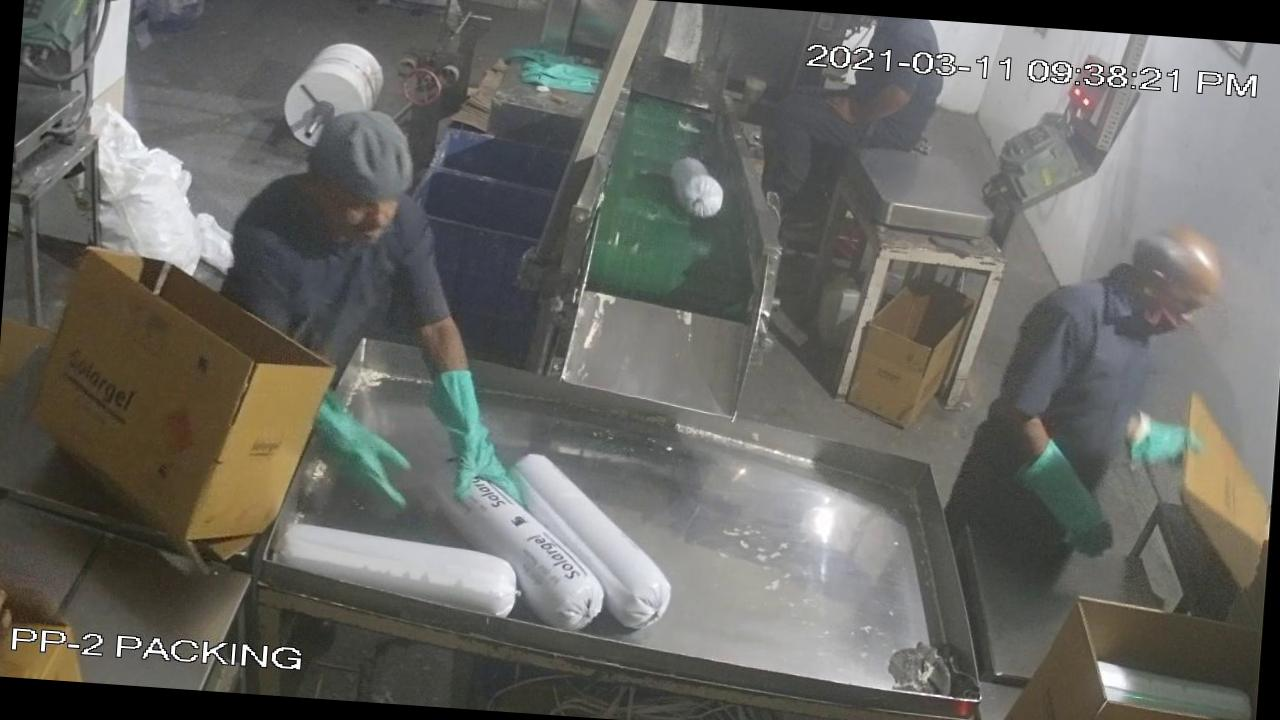Gloves: (1002, 421, 1142, 571), (414, 351, 548, 499)
No-gloves: (822, 72, 929, 132)
